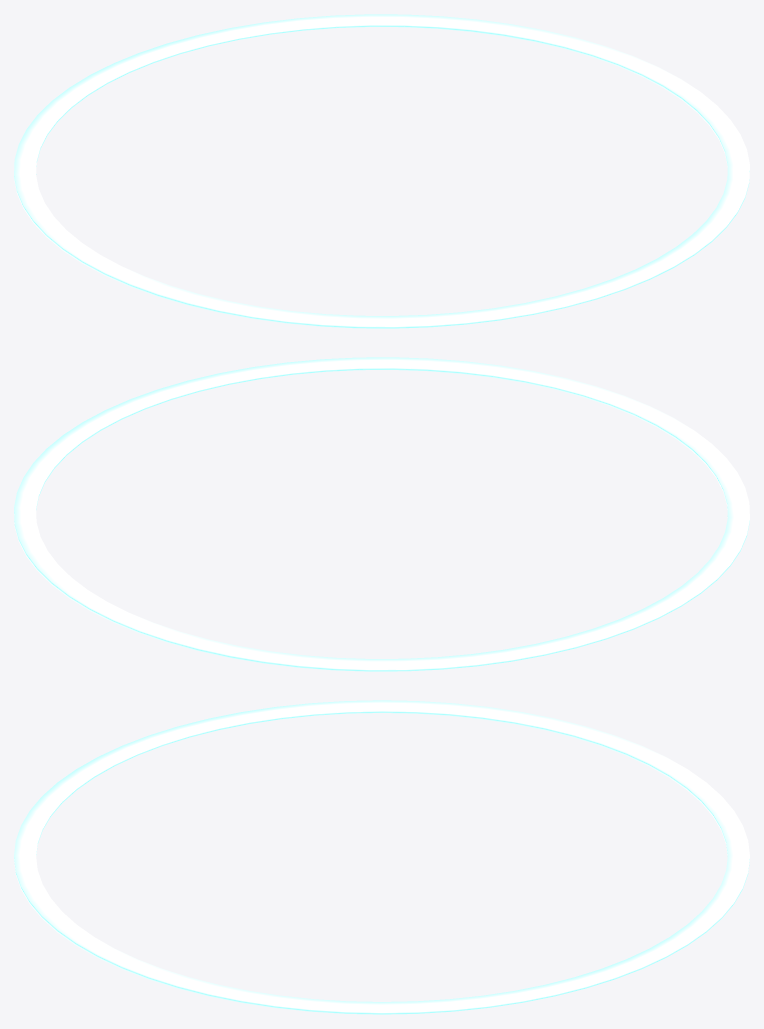
The model's file is SM_TelegraphRing.fbx.
3 renders of one model, top to bottom at view 1: azimuth 30°, elevation 25°; view 2: azimuth 150°, elevation 25°; view 3: azimuth 270°, elevation 25°, orthographic.
Parts seen in each view (by area): view 1: SM_TelegraphRing; view 2: SM_TelegraphRing; view 3: SM_TelegraphRing.
Part boxes in pixels (<box>): SM_TelegraphRing: <box>14,14,749,328</box>; SM_TelegraphRing: <box>14,357,749,671</box>; SM_TelegraphRing: <box>14,700,749,1014</box>.
Bounding box in the file's own units: 200 × 200 × 1.
